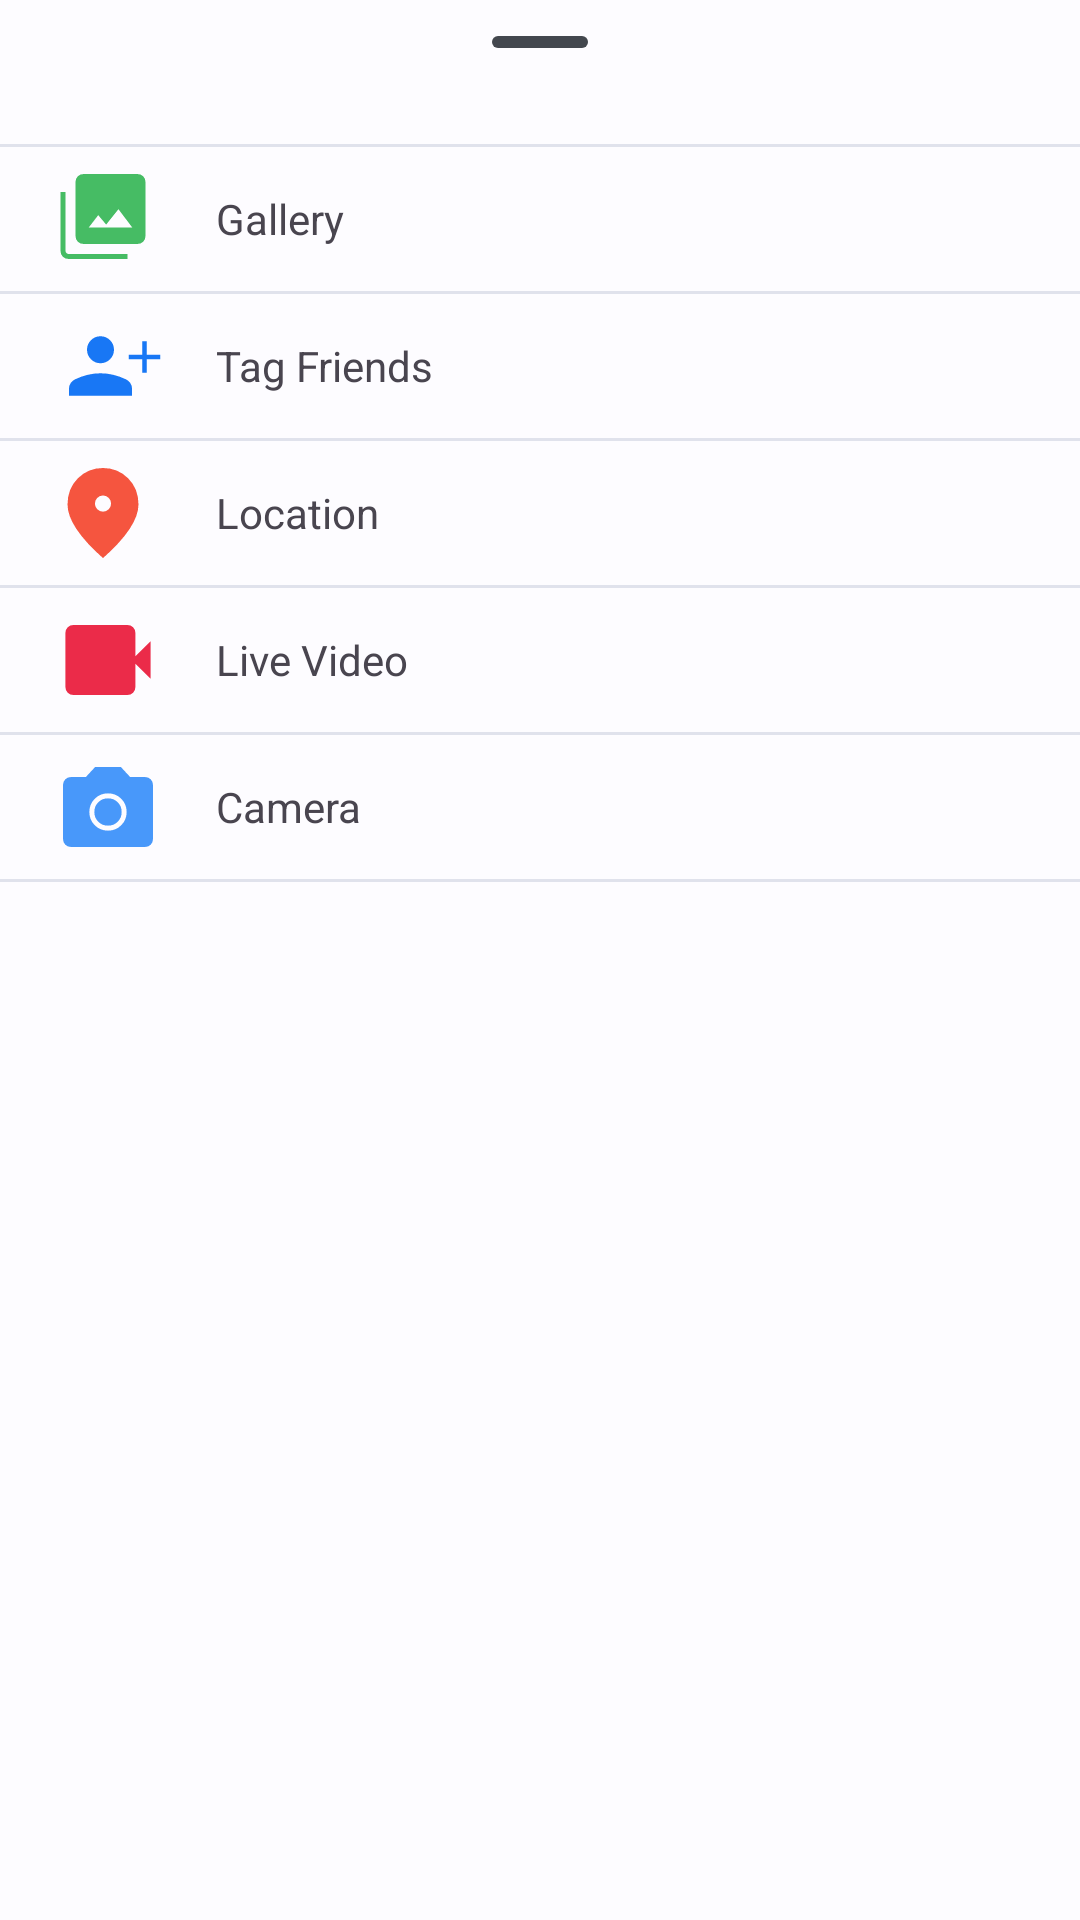

Named icons in this screenshot (1080x1920) and their centers, (x=x, y=y):
person add: (x=115, y=366)
photo library: (x=103, y=216)
videocam: (x=108, y=660)
